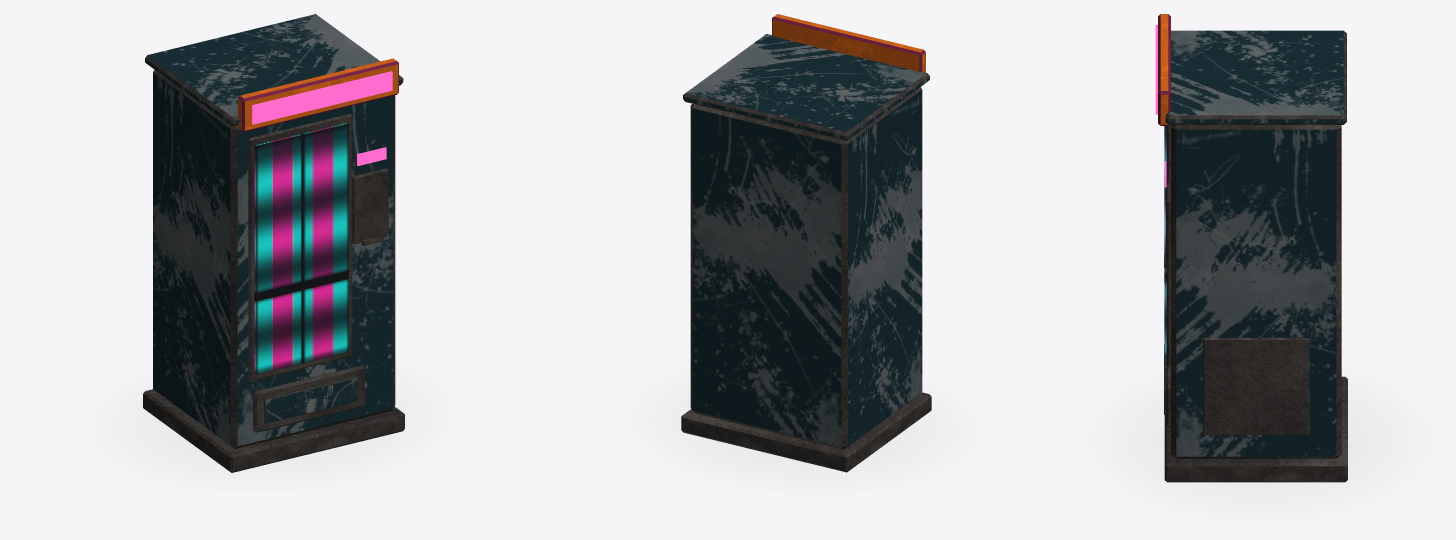
Rendered from vending_machine.glb.
The picture shows the model from 3 angles, left to right: view 1: azimuth 30°, elevation 25°; view 2: azimuth 150°, elevation 25°; view 3: azimuth 270°, elevation 25°; orthographic projection. The views are drawn at different scales.
Parts seen in each view (by area): view 1: vending_machine_LOD0, vending_machine_contact; view 2: vending_machine_LOD0, vending_machine_contact; view 3: vending_machine_LOD0, vending_machine_contact.
Boxes of the visible parts, left/top/right/bottom form: vending_machine_LOD0: left=143, top=14, right=404, bottom=472; vending_machine_contact: left=100, top=368, right=443, bottom=488; vending_machine_LOD0: left=681, top=14, right=931, bottom=472; vending_machine_contact: left=640, top=373, right=968, bottom=490; vending_machine_LOD0: left=1155, top=14, right=1347, bottom=482; vending_machine_contact: left=1097, top=374, right=1423, bottom=517.
Size of what is drawn, in the model's own units: 1.9 by 2.01 by 1.7.
5 materials, 4 textured.
